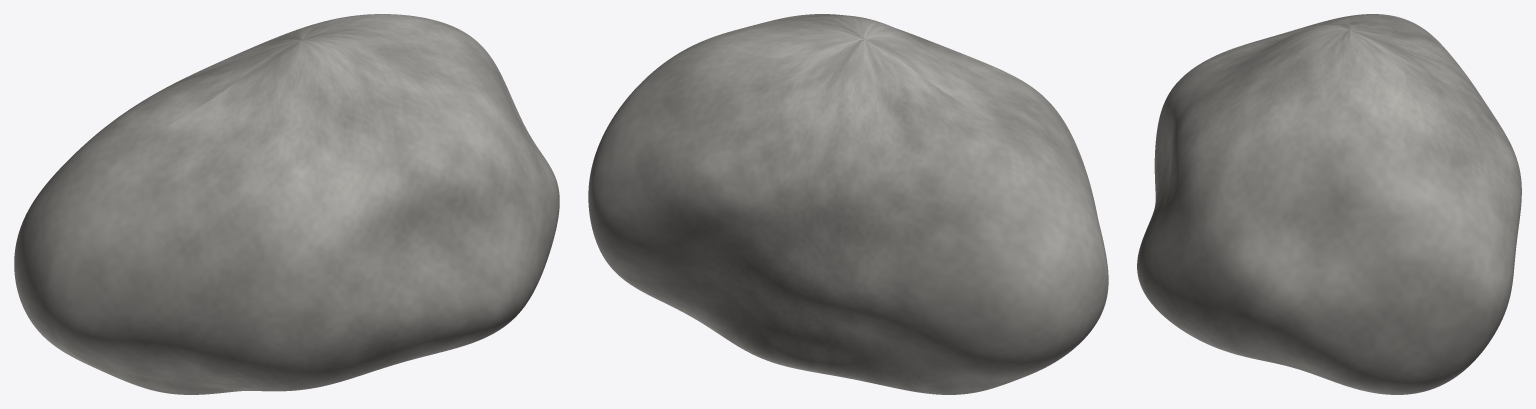
The picture shows the model from 3 angles, left to right: view 1: azimuth 30°, elevation 25°; view 2: azimuth 150°, elevation 25°; view 3: azimuth 270°, elevation 25°; orthographic projection. The views are drawn at different scales.
Visible parts, largest first — view 1: Nix; view 2: Nix; view 3: Nix.
Part boxes in pixels (x1,y1,x2,y2): Nix: (14,14,559,394); Nix: (588,14,1108,394); Nix: (1137,14,1521,394).
Size of the model in its own units: 96.83 by 62.99 by 67.66.
Materials: 1 (1 with a texture image).
